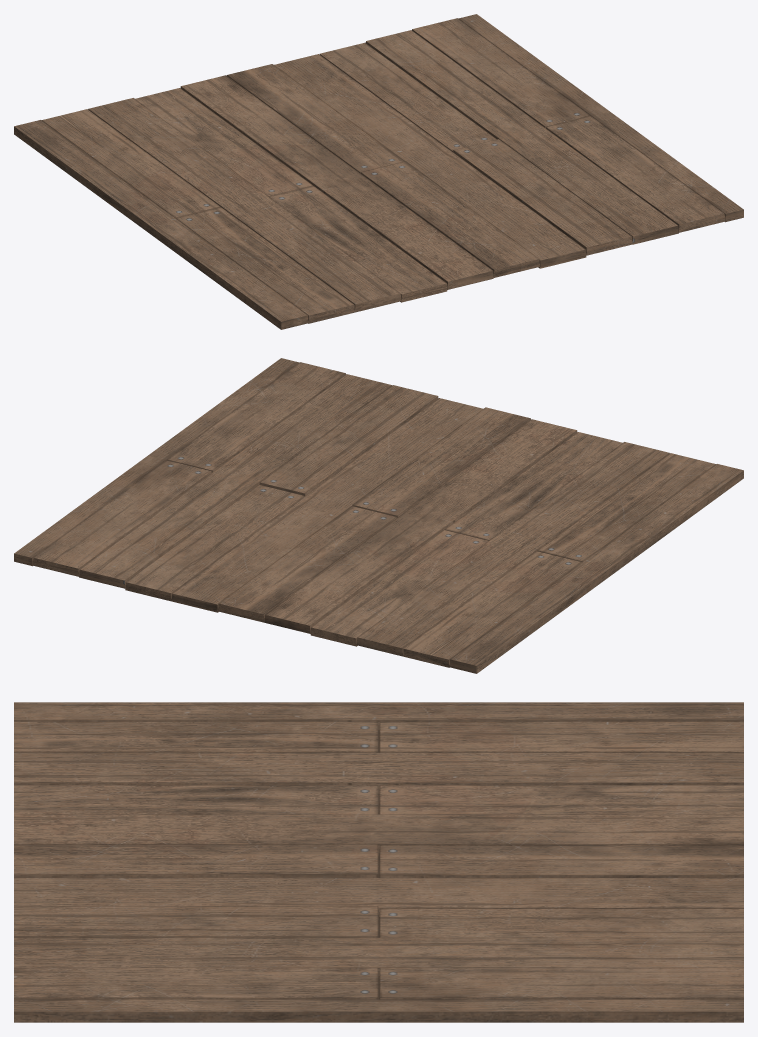
The model's file is SM_Floor01a.fbx.
3 renders of one model, top to bottom at view 1: azimuth 30°, elevation 25°; view 2: azimuth 150°, elevation 25°; view 3: azimuth 270°, elevation 25°, orthographic. The views are drawn at different scales.
Parts seen in each view (by area): view 1: SM_Floor01a; view 2: SM_Floor01a; view 3: SM_Floor01a.
Part boxes in pixels (x1,y1,x2,y2): SM_Floor01a: (14,14,743,329); SM_Floor01a: (14,358,743,673); SM_Floor01a: (14,702,743,1022).
Size of the model in its own units: 300 by 6.23 by 300.
